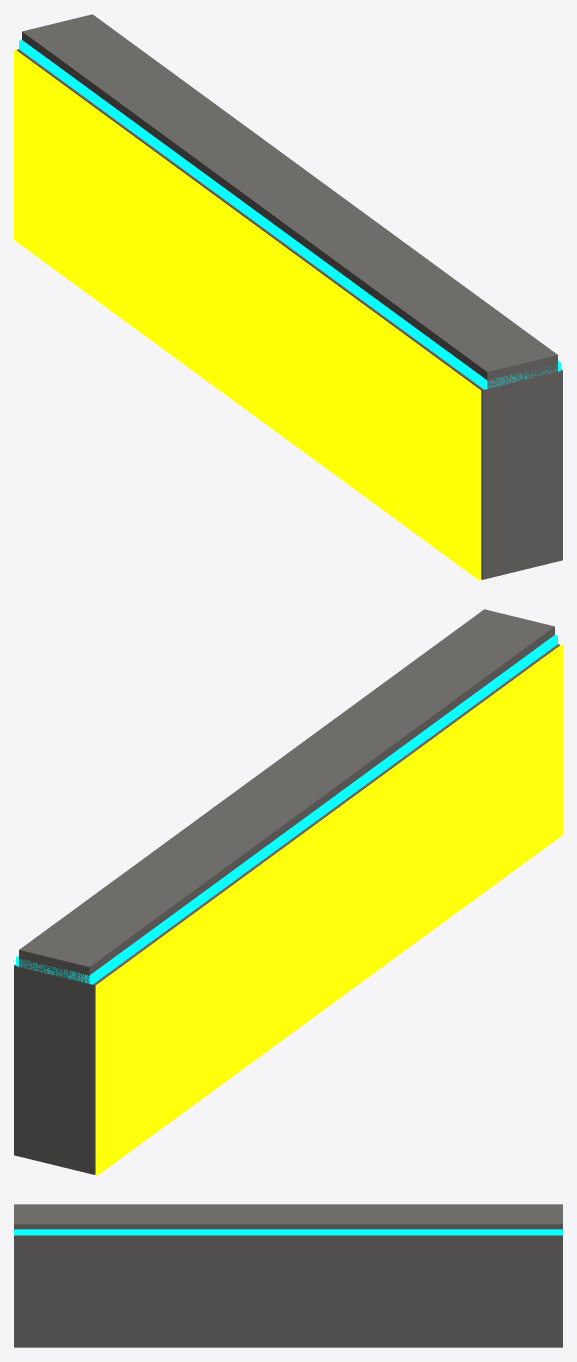
File: ROAD_Divider_Barrier.glb
3 renders of one model, top to bottom at view 1: azimuth 30°, elevation 25°; view 2: azimuth 150°, elevation 25°; view 3: azimuth 270°, elevation 25°, orthographic. The views are drawn at different scales.
Parts seen in each view (by area): view 1: ROAD_Divider_Barrier; view 2: ROAD_Divider_Barrier; view 3: ROAD_Divider_Barrier.
Boxes of the visible parts, x1=… form: ROAD_Divider_Barrier: x1=14, y1=14, x2=562, y2=580; ROAD_Divider_Barrier: x1=14, y1=609, x2=562, y2=1175; ROAD_Divider_Barrier: x1=14, y1=1204, x2=562, y2=1347.
Size of the model in its own units: 0.415 by 0.98 by 4.
